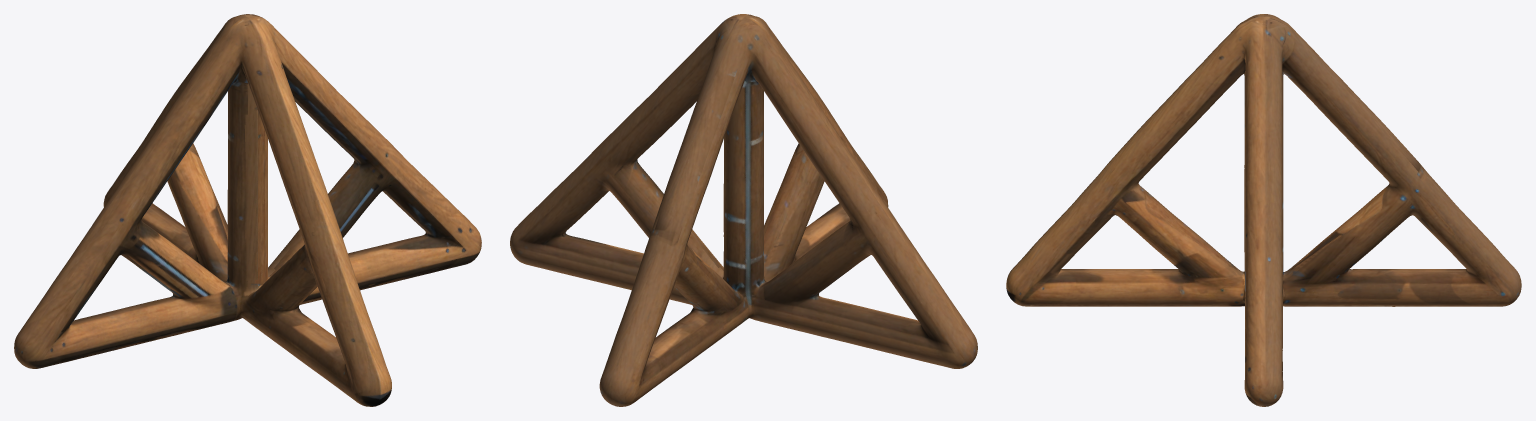
File: a_unit_tetrahedron_tr_1114061802_refine.fbx
3 views of the same model, side by side, from view 1: azimuth 30°, elevation 25°; view 2: azimuth 150°, elevation 25°; view 3: azimuth 270°, elevation 25° (orthographic). The views are drawn at different scales.
Visible parts, largest first — view 1: Mesh1_Mesh1.046; view 2: Mesh1_Mesh1.046; view 3: Mesh1_Mesh1.046.
Part boxes in pixels (bbox=[...]): Mesh1_Mesh1.046: bbox=[14, 14, 481, 406]; Mesh1_Mesh1.046: bbox=[510, 14, 977, 406]; Mesh1_Mesh1.046: bbox=[1006, 14, 1521, 406].
Bounding box in the file's own units: 200 × 123 × 200.
Materials: 1 (1 with a texture image).
